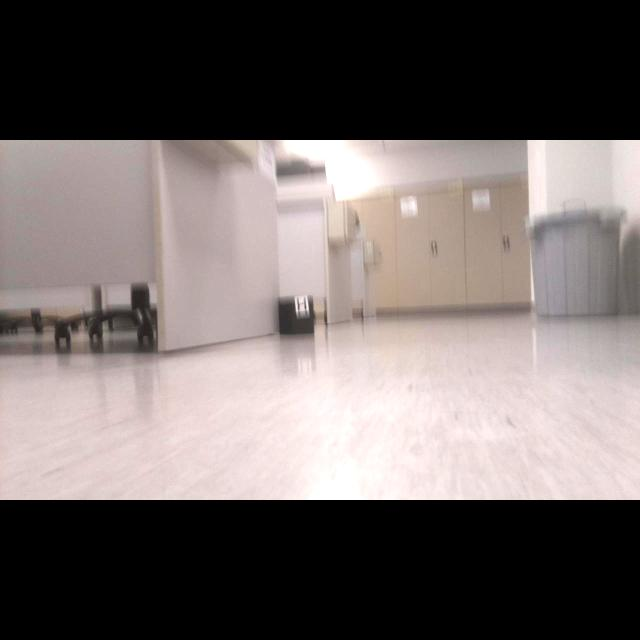H: (297, 297, 306, 310)
